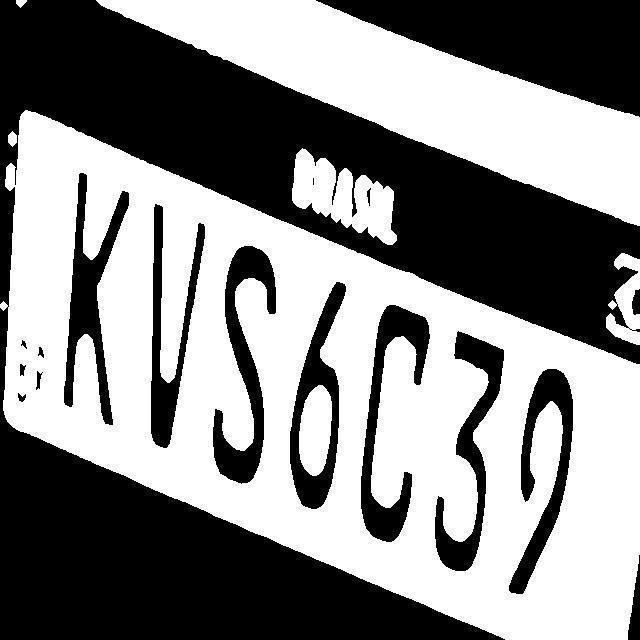3: (430, 332, 502, 570)
6: (288, 274, 346, 510)
9: (506, 359, 572, 599)
c: (356, 303, 434, 536)
k: (59, 172, 132, 426)
s: (212, 242, 280, 482)
v: (134, 200, 211, 450)
